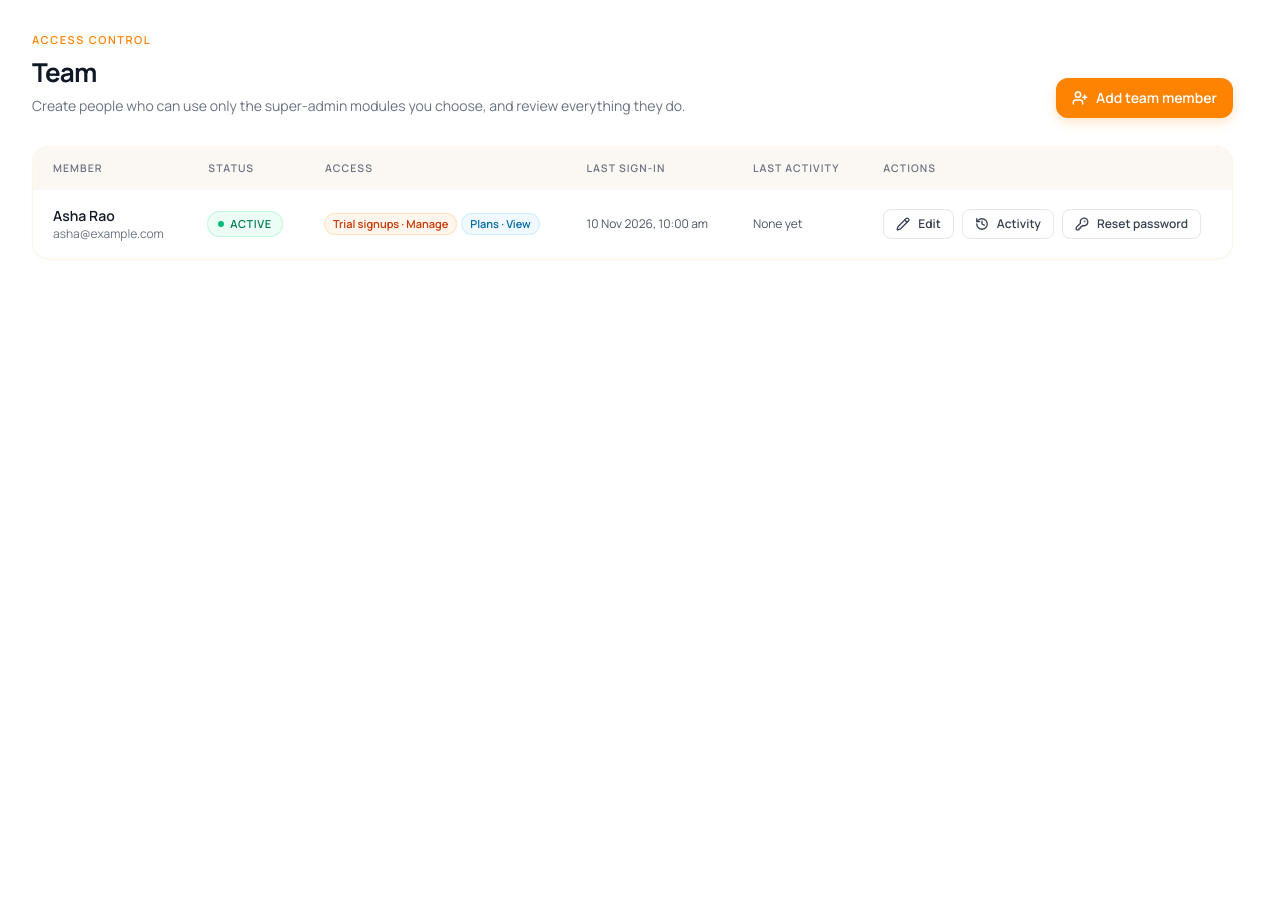
Activity drawer › empty and error states
The image size is (1280, 900).
Click the button with aria-label "Activity for Asha Rao".
click(1008, 224)  # box [962,209,1054,239]
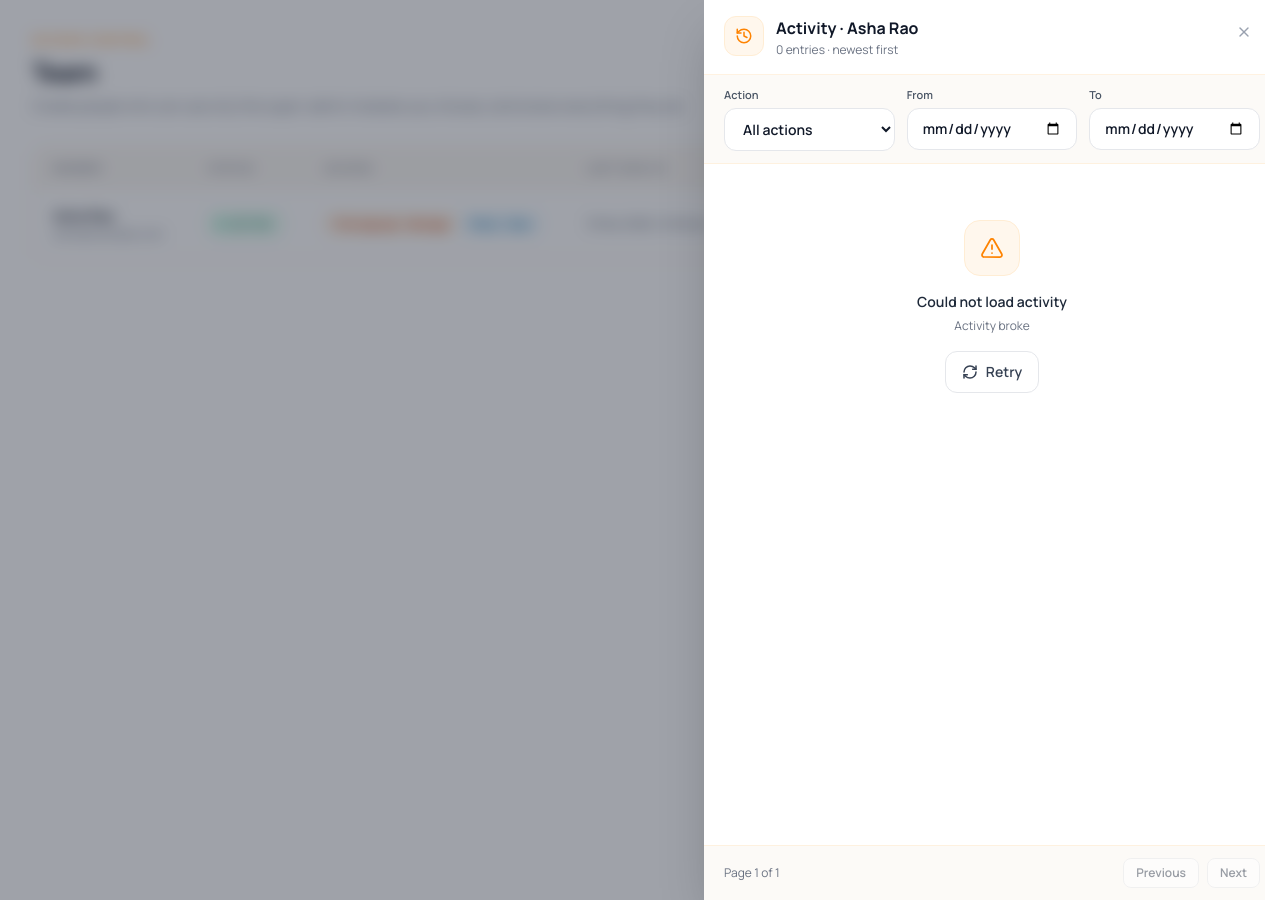
expect the text "Activity broke" is shown: met, box [954,316,1030,335]
Click the button "Retry".
click(992, 372)  # box [945,351,1039,393]
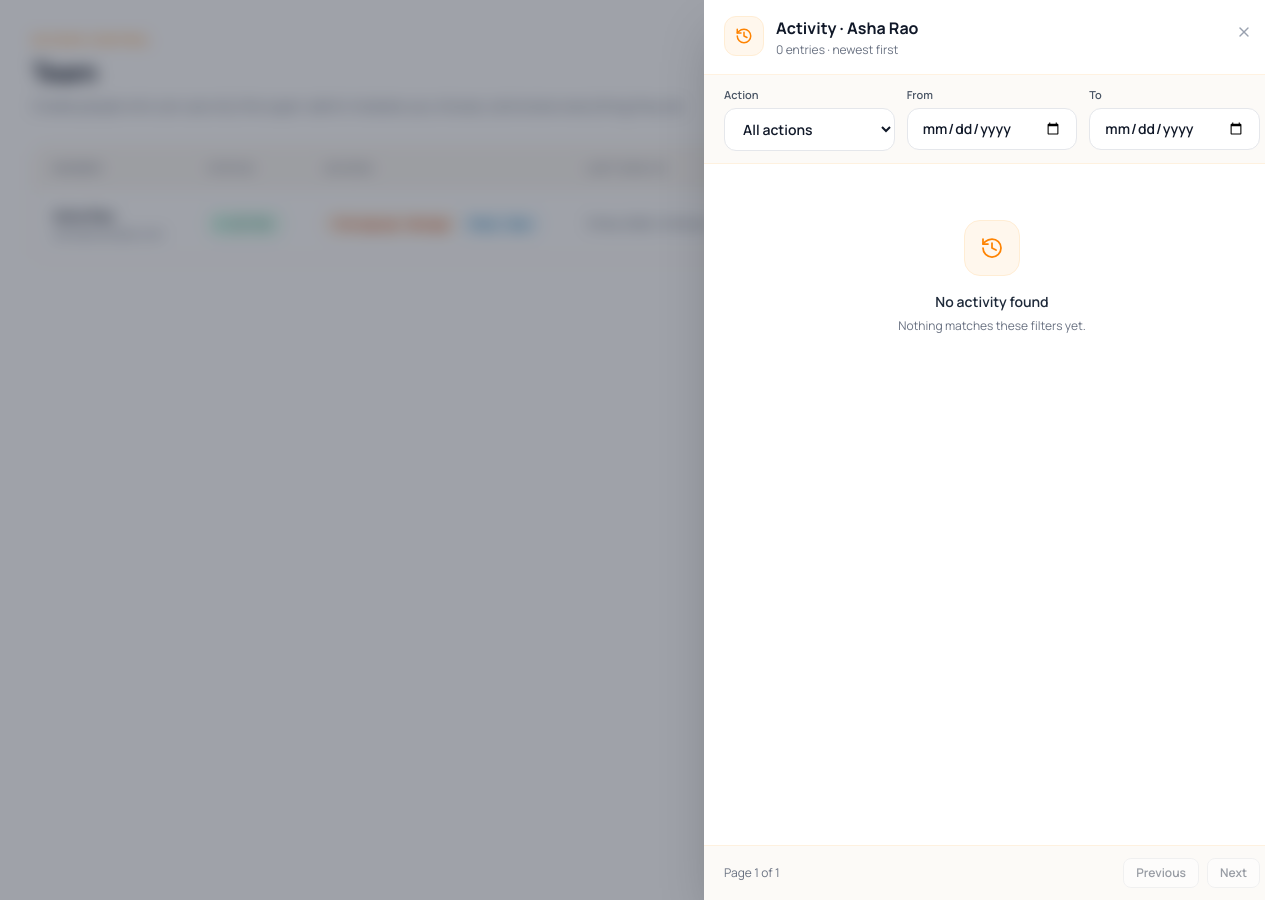
expect the text "No activity found" is shown: met, box [935,292,1049,312]
